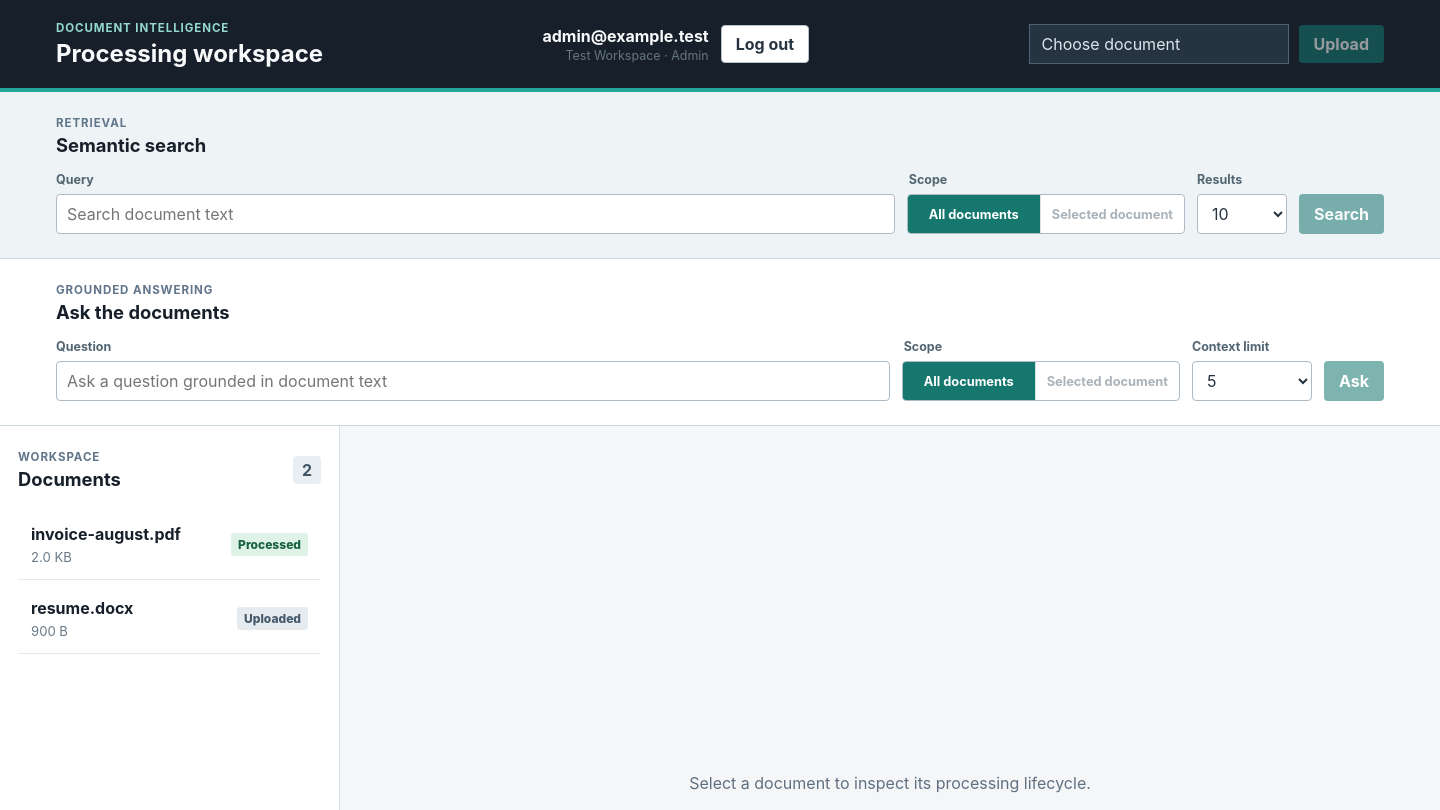
Test: document workspace › renders the automatic and effective classification
Click the button "invoice-august.pdf 2.0 KB Processed": point(170, 544) top-left (18, 508), bottom-right (321, 580)
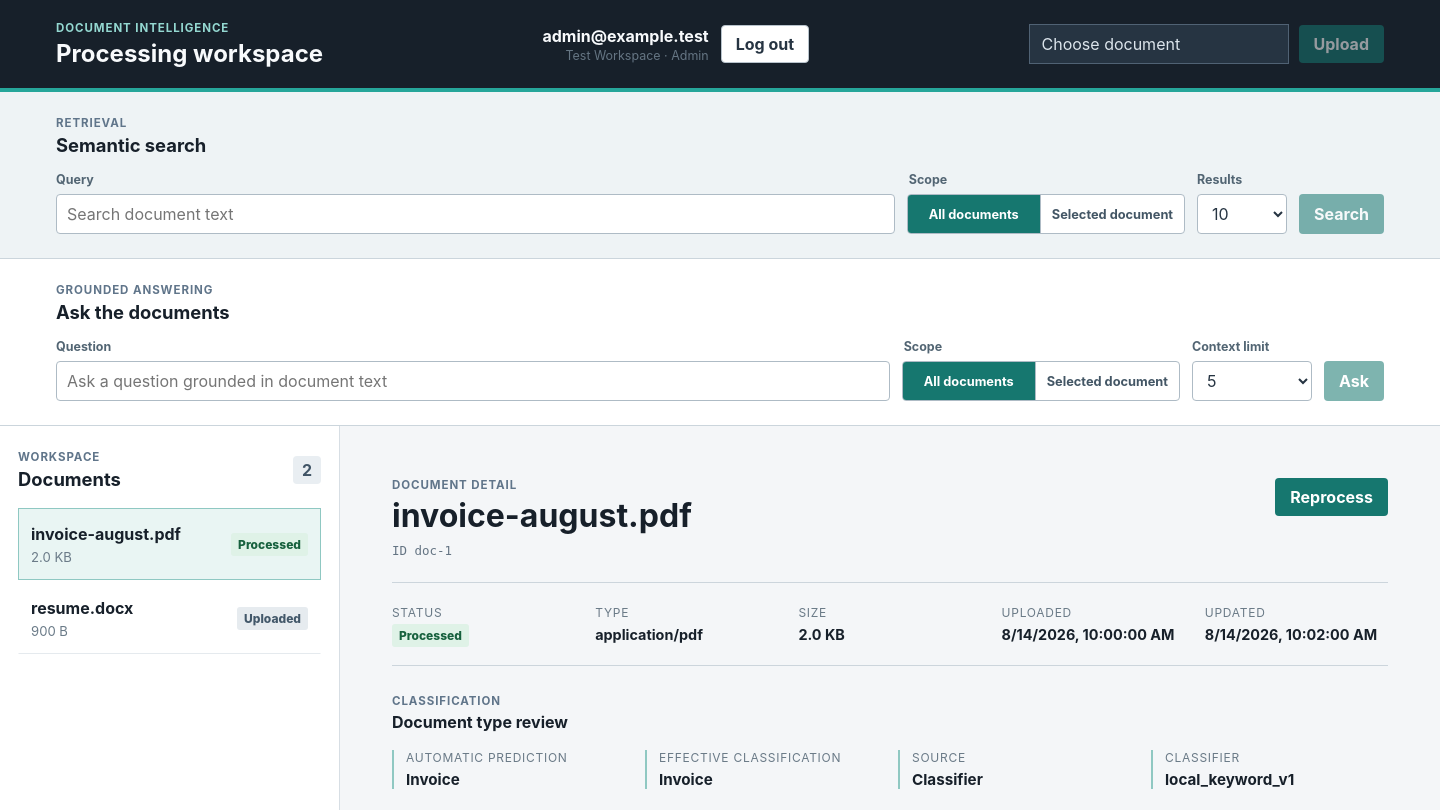
Check: the text "Automatic prediction" is shown, box top-left (406, 750), bottom-right (568, 765)
Check: the text "local_keyword_v1" is shown, box top-left (1165, 770), bottom-right (1294, 789)
